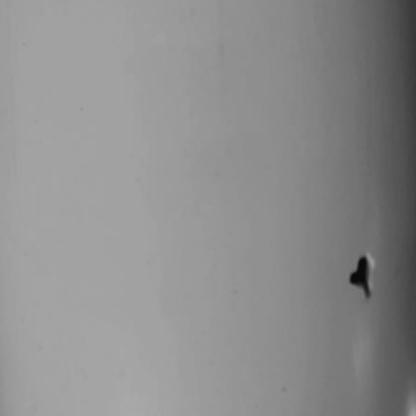kongdong: (344, 244, 386, 309)
